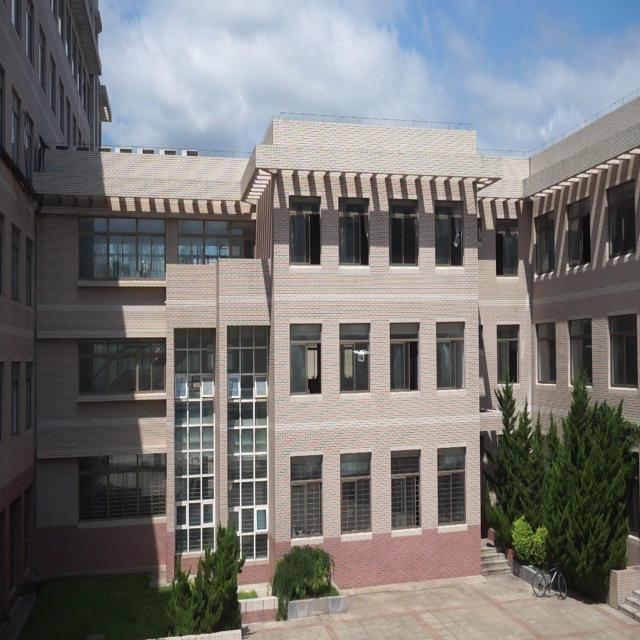drone: (349, 346, 371, 368)
